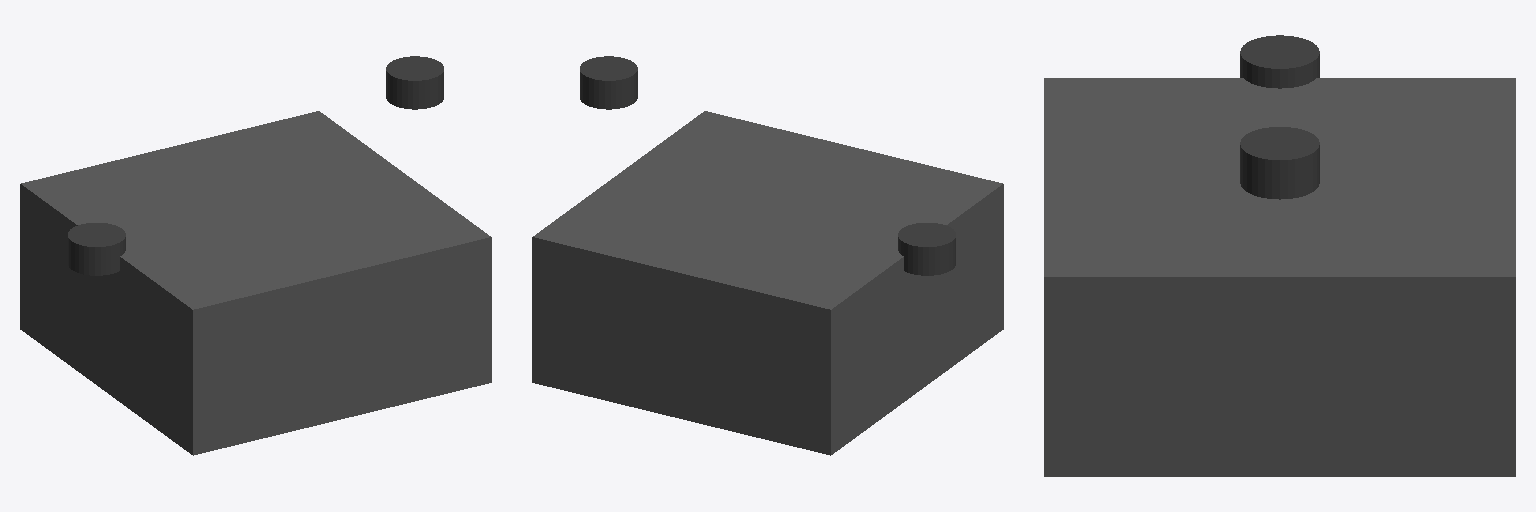
The robot description file, URDF, robot "sendbooster_agv":
<?xml version="1.0"?>
<!--
  Gazebo simulation URDF for Sendbooster AGV
  Based on sendbooster_agv.urdf with added:
  - Inertial properties for physics simulation
  - Caster wheels for stability
  - Gazebo diff_drive plugin (replaces motor_driver_node)
  - Gazebo ray sensors x2 (replaces rplidar_ros)
  - Gazebo IMU sensor (replaces stella_ahrs)
-->
<robot name="sendbooster_agv">

  <!-- ====== Materials ====== -->
  <material name="black"><color rgba="0.0 0.0 0.0 1.0"/></material>
  <material name="dark"><color rgba="0.3 0.3 0.3 1.0"/></material>
  <material name="light_black"><color rgba="0.4 0.4 0.4 1.0"/></material>

  <!-- ====== Base Footprint (ground projection) ====== -->
  <link name="base_footprint"/>

  <joint name="base_joint" type="fixed">
    <parent link="base_footprint"/>
    <child link="base_link"/>
    <origin xyz="0 0 0" rpy="0 0 0"/>
  </joint>

  <!-- ====== Base Link (robot body: 0.6m x 0.6m x 0.3m) ====== -->
  <!-- Collision box raised so bottom is above ground (z=0.01), preventing
       the body from resting on the floor instead of the wheels. -->
  <link name="base_link">
    <visual>
      <origin xyz="0 0 0.16" rpy="0 0 0"/>
      <geometry><box size="0.6 0.6 0.28"/></geometry>
      <material name="light_black"/>
    </visual>
    <collision>
      <origin xyz="0 0 0.16" rpy="0 0 0"/>
      <geometry><box size="0.6 0.6 0.28"/></geometry>
    </collision>
    <inertial>
      <origin xyz="0 0 0.16" rpy="0 0 0"/>
      <mass value="20.0"/>
      <inertia ixx="0.75" ixy="0" ixz="0" iyy="0.75" iyz="0" izz="1.2"/>
    </inertial>
  </link>

  <!-- ====== Left Wheel ====== -->
  <joint name="wheel_left_joint" type="continuous">
    <parent link="base_link"/>
    <child link="wheel_left_link"/>
    <!-- y=0.185 (half of wheel_separation 0.37m), z=0.0965 (wheel_radius, touches ground) -->
    <!-- Both wheels use rpy=-1.5708: axes point +Y so positive velocity = forward -->
    <origin xyz="0 0.185 0.0965" rpy="-1.5708 0 0"/>
    <axis xyz="0 0 1"/>
  </joint>

  <link name="wheel_left_link">
    <visual>
      <geometry><cylinder radius="0.0965" length="0.048"/></geometry>
      <material name="dark"/>
    </visual>
    <collision>
      <geometry><cylinder radius="0.0965" length="0.048"/></geometry>
    </collision>
    <inertial>
      <mass value="1.0"/>
      <inertia ixx="0.0025" ixy="0" ixz="0" iyy="0.0025" iyz="0" izz="0.0047"/>
    </inertial>
  </link>

  <!-- ====== Right Wheel ====== -->
  <joint name="wheel_right_joint" type="continuous">
    <parent link="base_link"/>
    <child link="wheel_right_link"/>
    <origin xyz="0 -0.185 0.0965" rpy="-1.5708 0 0"/>
    <axis xyz="0 0 1"/>
  </joint>

  <link name="wheel_right_link">
    <visual>
      <geometry><cylinder radius="0.0965" length="0.048"/></geometry>
      <material name="dark"/>
    </visual>
    <collision>
      <geometry><cylinder radius="0.0965" length="0.048"/></geometry>
    </collision>
    <inertial>
      <mass value="1.0"/>
      <inertia ixx="0.0025" ixy="0" ixz="0" iyy="0.0025" iyz="0" izz="0.0047"/>
    </inertial>
  </link>

  <!-- ====== Front Caster ====== -->
  <joint name="front_caster_joint" type="fixed">
    <parent link="base_link"/>
    <child link="front_caster_link"/>
    <origin xyz="0.25 0 0.015" rpy="0 0 0"/>
  </joint>

  <link name="front_caster_link">
    <visual>
      <geometry><sphere radius="0.015"/></geometry>
      <material name="black"/>
    </visual>
    <collision>
      <geometry><sphere radius="0.015"/></geometry>
    </collision>
    <inertial>
      <mass value="0.1"/>
      <inertia ixx="0.000009" ixy="0" ixz="0" iyy="0.000009" iyz="0" izz="0.000009"/>
    </inertial>
  </link>

  <!-- ====== Back Caster ====== -->
  <joint name="back_caster_joint" type="fixed">
    <parent link="base_link"/>
    <child link="back_caster_link"/>
    <origin xyz="-0.25 0 0.015" rpy="0 0 0"/>
  </joint>

  <link name="back_caster_link">
    <visual>
      <geometry><sphere radius="0.015"/></geometry>
      <material name="black"/>
    </visual>
    <collision>
      <geometry><sphere radius="0.015"/></geometry>
    </collision>
    <inertial>
      <mass value="0.1"/>
      <inertia ixx="0.000009" ixy="0" ixz="0" iyy="0.000009" iyz="0" izz="0.000009"/>
    </inertial>
  </link>

  <!-- ====== IMU Link ====== -->
  <!-- Mounted 180° rotated around Z (same as real robot) -->
  <joint name="imu_joint" type="fixed">
    <parent link="base_link"/>
    <child link="imu_link"/>
    <origin xyz="0 0 0.1" rpy="0 0 3.14159"/>
  </joint>

  <link name="imu_link">
    <inertial>
      <mass value="0.01"/>
      <inertia ixx="0.000001" ixy="0" ixz="0" iyy="0.000001" iyz="0" izz="0.000001"/>
    </inertial>
  </link>

  <!-- ====== Front LiDAR ====== -->
  <!-- Hardware 0° faces -X, rotated 180° so scan aligns with +X (forward) -->
  <!-- Mounted at z=0.15 above base_link (top of robot body) -->
  <joint name="lidar_joint" type="fixed">
    <parent link="base_link"/>
    <child link="base_scan"/>
    <origin xyz="0.32 0 0.32" rpy="0 0 3.14159"/>
  </joint>

  <link name="base_scan">
    <visual>
      <origin xyz="0 0 0.15" rpy="0 0 0"/>
      <geometry><cylinder radius="0.0508" length="0.055"/></geometry>
      <material name="dark"/>
    </visual>
    <!-- No collision: ray sensor doesn't need it, and cylinder at z=0 collides with ground -->
    <inertial>
      <mass value="0.2"/>
      <inertia ixx="0.00005" ixy="0" ixz="0" iyy="0.00005" iyz="0" izz="0.00005"/>
    </inertial>
  </link>

  <!-- ====== Back LiDAR ====== -->
  <!-- Mounted at z=0.15 above base_link (top of robot body) -->
  <joint name="lidar_joint_back" type="fixed">
    <parent link="base_link"/>
    <child link="base_scan_back"/>
    <origin xyz="-0.32 0 0.15" rpy="0 0 3.14159"/>
  </joint>

  <link name="base_scan_back">
    <visual>
      <origin xyz="0 0 0.15" rpy="0 0 0"/>
      <geometry><cylinder radius="0.0508" length="0.055"/></geometry>
      <material name="dark"/>
    </visual>
    <inertial>
      <mass value="0.2"/>
      <inertia ixx="0.00005" ixy="0" ixz="0" iyy="0.00005" iyz="0" izz="0.00005"/>
    </inertial>
  </link>

  <!-- ============================================================ -->
  <!-- =================== GAZEBO PLUGINS ========================= -->
  <!-- ============================================================ -->

  <!-- Gazebo colors -->
  <gazebo reference="base_link"><material>Gazebo/DarkGrey</material></gazebo>
  <gazebo reference="wheel_left_link"><material>Gazebo/FlatBlack</material></gazebo>
  <gazebo reference="wheel_right_link"><material>Gazebo/FlatBlack</material></gazebo>
  <gazebo reference="front_caster_link"><material>Gazebo/FlatBlack</material></gazebo>
  <gazebo reference="back_caster_link"><material>Gazebo/FlatBlack</material></gazebo>
  <gazebo reference="base_scan"><material>Gazebo/FlatBlack</material></gazebo>
  <gazebo reference="base_scan_back"><material>Gazebo/FlatBlack</material></gazebo>

  <!-- Caster friction: near-zero for frictionless sliding -->
  <gazebo reference="front_caster_link">
    <mu1>0.001</mu1>
    <mu2>0.001</mu2>
    <kp>1000000.0</kp>
    <kd>10.0</kd>
  </gazebo>
  <gazebo reference="back_caster_link">
    <mu1>0.001</mu1>
    <mu2>0.001</mu2>
    <kp>1000000.0</kp>
    <kd>10.0</kd>
  </gazebo>

  <!-- Drive wheel friction -->
  <gazebo reference="wheel_left_link">
    <mu1>1.0</mu1>
    <mu2>1.0</mu2>
    <kp>500000.0</kp>
    <kd>10.0</kd>
  </gazebo>
  <gazebo reference="wheel_right_link">
    <mu1>1.0</mu1>
    <mu2>1.0</mu2>
    <kp>500000.0</kp>
    <kd>10.0</kd>
  </gazebo>

  <!-- ── Differential Drive (replaces motor_driver_node) ── -->
  <gazebo>
    <plugin name="diff_drive" filename="libgazebo_ros_diff_drive.so">
      <ros>
        <remapping>odom:=odom</remapping>
      </ros>
      <left_joint>wheel_left_joint</left_joint>
      <right_joint>wheel_right_joint</right_joint>
      <wheel_separation>0.37</wheel_separation>
      <wheel_diameter>0.193</wheel_diameter>
      <max_wheel_torque>50</max_wheel_torque>
      <max_wheel_acceleration>2.0</max_wheel_acceleration>
      <command_topic>cmd_vel</command_topic>
      <odometry_topic>odom</odometry_topic>
      <odometry_frame>odom</odometry_frame>
      <robot_base_frame>base_footprint</robot_base_frame>
      <!-- EKF publishes odom→base_footprint TF, not diff_drive -->
      <publish_odom>true</publish_odom>
      <publish_odom_tf>false</publish_odom_tf>
      <publish_wheel_tf>false</publish_wheel_tf>
      <update_rate>50</update_rate>
      <odometry_source>1</odometry_source>  <!-- 1=encoder -->
      <!-- Realistic encoder noise (wheel slip, gear backlash) -->
      <odometry_covariance_diagonal>0.001 0.001 0.001 0.001 0.001 0.01</odometry_covariance_diagonal>
    </plugin>
  </gazebo>

  <!-- ── Front LiDAR (replaces rplidar_ros front) ── -->
  <!-- RPLIDAR A2M8: front 180° only, 12m range, ~10Hz -->
  <gazebo reference="base_scan">
    <sensor type="ray" name="front_lidar">
      <pose>0 0 0 0 0 0</pose>
      <always_on>true</always_on>
      <update_rate>10</update_rate>
      <visualize>false</visualize>
      <ray>
        <scan>
          <horizontal>
            <samples>180</samples>
            <resolution>1</resolution>
            <min_angle>-1.5708</min_angle>
            <max_angle>1.5708</max_angle>
          </horizontal>
        </scan>
        <range>
          <min>0.30</min>
          <max>12.0</max>
          <resolution>0.01</resolution>
        </range>
        <noise>
          <type>gaussian</type>
          <mean>0.0</mean>
          <stddev>0.03</stddev>
        </noise>
      </ray>
      <plugin name="front_lidar_plugin" filename="libgazebo_ros_ray_sensor.so">
        <ros>
          <remapping>~/out:=scan_raw_front</remapping>
        </ros>
        <output_type>sensor_msgs/LaserScan</output_type>
        <frame_name>base_scan</frame_name>
      </plugin>
    </sensor>
  </gazebo>

  <!-- ── Back LiDAR (replaces rplidar_ros back) ── -->
  <gazebo reference="base_scan_back">
    <sensor type="ray" name="back_lidar">
      <pose>0 0 0 0 0 0</pose>
      <always_on>true</always_on>
      <update_rate>10</update_rate>
      <visualize>false</visualize>
      <ray>
        <scan>
          <horizontal>
            <samples>360</samples>
            <resolution>1</resolution>
            <min_angle>-3.14159</min_angle>
            <max_angle>3.14159</max_angle>
          </horizontal>
        </scan>
        <range>
          <min>0.30</min>
          <max>12.0</max>
          <resolution>0.01</resolution>
        </range>
        <noise>
          <type>gaussian</type>
          <mean>0.0</mean>
          <stddev>0.03</stddev>
        </noise>
      </ray>
      <plugin name="back_lidar_plugin" filename="libgazebo_ros_ray_sensor.so">
        <ros>
          <remapping>~/out:=scan_raw_back</remapping>
        </ros>
        <output_type>sensor_msgs/LaserScan</output_type>
        <frame_name>base_scan_back</frame_name>
      </plugin>
    </sensor>
  </gazebo>

  <!-- ── IMU Sensor (replaces stella_ahrs) ── -->
  <gazebo reference="imu_link">
    <sensor type="imu" name="imu_sensor">
      <always_on>true</always_on>
      <update_rate>50</update_rate>
      <imu>
        <angular_velocity>
          <x><noise type="gaussian"><mean>0</mean><stddev>0.002</stddev></noise></x>
          <y><noise type="gaussian"><mean>0</mean><stddev>0.002</stddev></noise></y>
          <z><noise type="gaussian"><mean>0</mean><stddev>0.002</stddev></noise></z>
        </angular_velocity>
        <linear_acceleration>
          <x><noise type="gaussian"><mean>0</mean><stddev>0.05</stddev></noise></x>
          <y><noise type="gaussian"><mean>0</mean><stddev>0.05</stddev></noise></y>
          <z><noise type="gaussian"><mean>0</mean><stddev>0.05</stddev></noise></z>
        </linear_acceleration>
      </imu>
      <plugin name="imu_plugin" filename="libgazebo_ros_imu_sensor.so">
        <ros>
          <remapping>~/out:=imu/data</remapping>
        </ros>
        <frame_name>imu_link</frame_name>
        <initial_orientation_as_reference>false</initial_orientation_as_reference>
      </plugin>
    </sensor>
  </gazebo>

</robot>

--- Facts derived from the render (not from the file) ---
3 views of the same robot in one strip: view 1: azimuth 30°, elevation 25°; view 2: azimuth 150°, elevation 25°; view 3: azimuth 270°, elevation 25° (orthographic).
Model sendbooster_agv with 9 links and 8 joints (2 continuous, 6 fixed), rooted at base_footprint, posed all joints at 0.
Links seen in each view (by area): view 1: base_link, base_scan, base_scan_back; view 2: base_link, base_scan, base_scan_back; view 3: base_link, base_scan, base_scan_back.
Link boxes in pixels (x1,y1,x2,y2): base_link: (20,111,491,455); base_scan: (386,56,443,109); base_scan_back: (68,223,125,275); base_link: (532,111,1003,455); base_scan: (580,56,637,109); base_scan_back: (898,223,955,275); base_link: (1044,78,1515,476); base_scan: (1240,127,1319,199); base_scan_back: (1240,35,1319,88).
Size in the robot's own frame: 0.7416 by 0.6 by 0.4975 metres.
Geometry: primitives only (box / cylinder / sphere), no mesh files.
